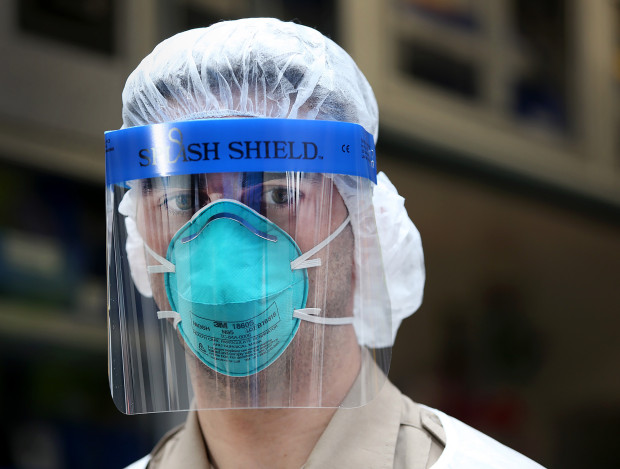n95: (153, 195, 325, 383)
